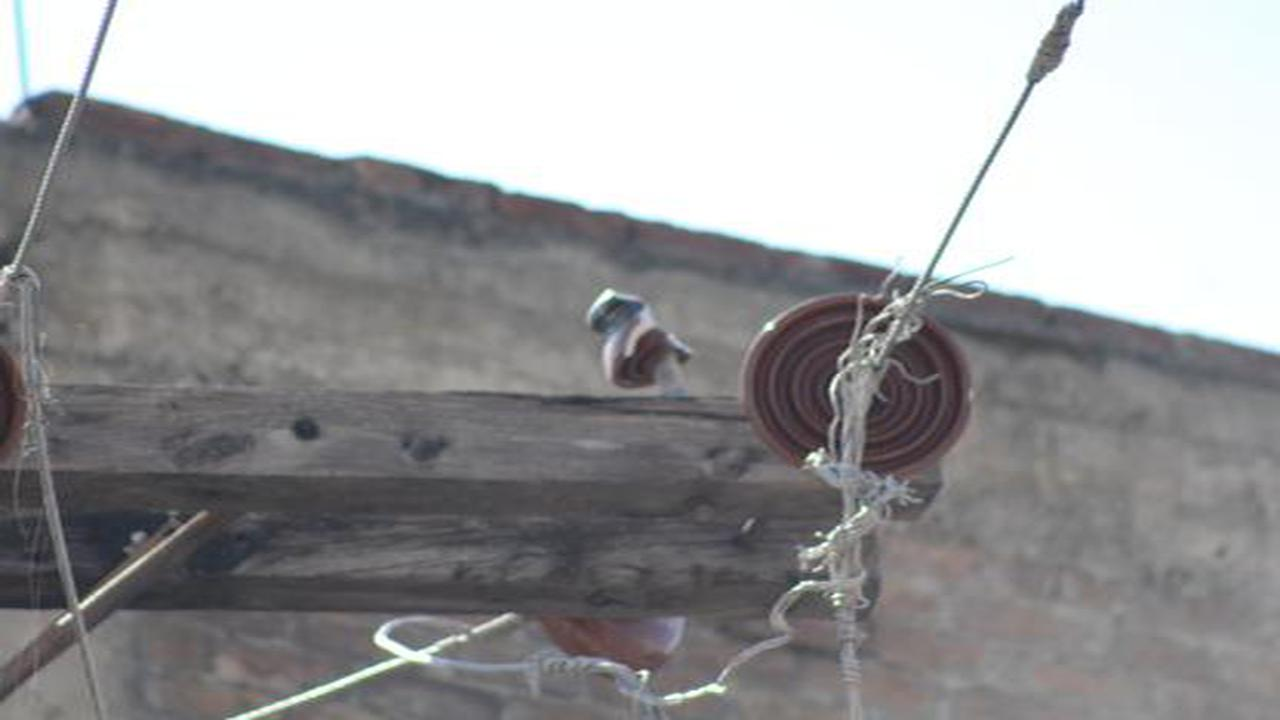defect_pin: (576, 275, 705, 403)
insulator_disc: (734, 280, 985, 487)
